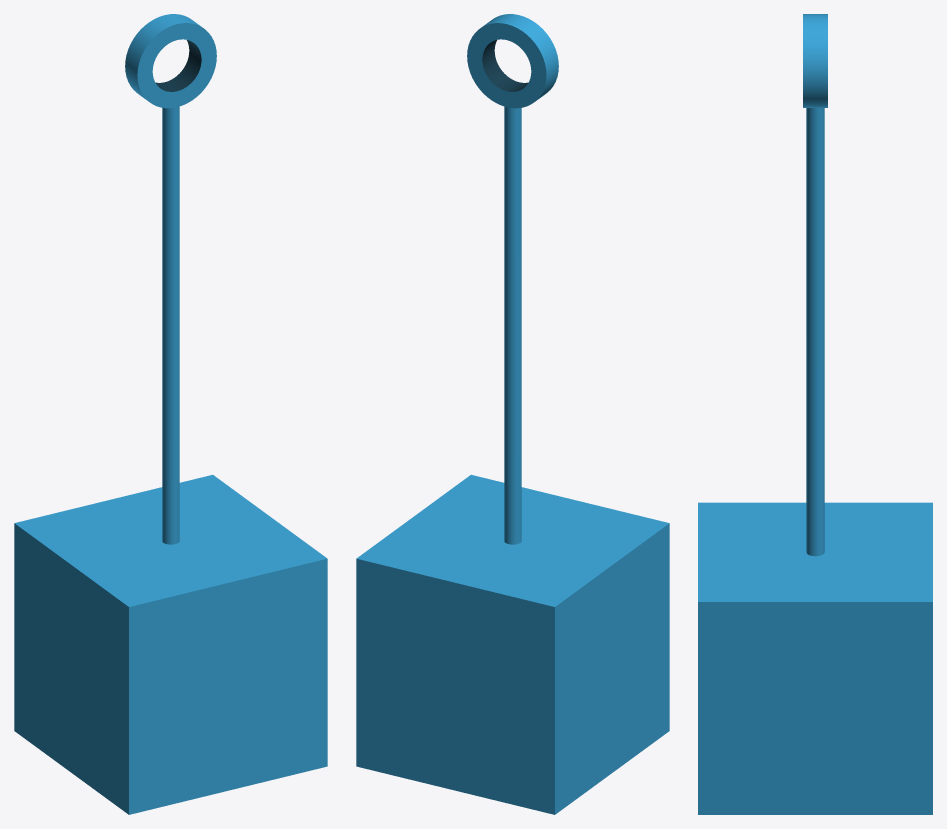
File: pesa-liviana.glb
3 views of the same model, side by side, from view 1: azimuth 30°, elevation 25°; view 2: azimuth 150°, elevation 25°; view 3: azimuth 270°, elevation 25° (orthographic). The views are drawn at different scales.
Parts seen in each view (by area): view 1: geometry_0, geometry_1; view 2: geometry_0, geometry_1; view 3: geometry_0.
Boxes of the visible parts, x1,y1,x2,y2 form: geometry_0: [14, 14, 327, 814]; geometry_1: [156, 40, 201, 91]; geometry_0: [356, 14, 669, 814]; geometry_1: [482, 40, 527, 91]; geometry_0: [698, 14, 932, 814].
Bounding box in the file's own units: 0.013 × 0.0456 × 0.013.
